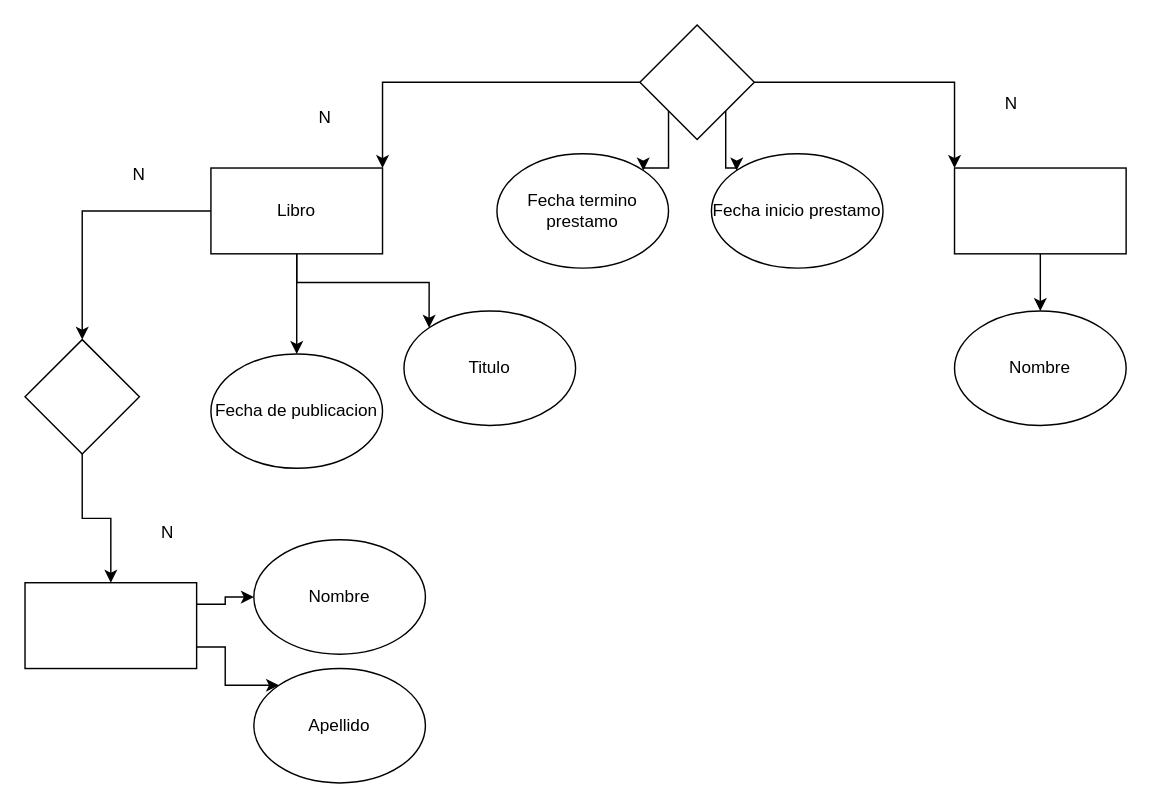
Some shapes in this 1151 by 808 pixel diagram are drawn without their labels. Each missing label, with the box of its shape:
Autor: (24, 581, 197, 669)
Escribe: (24, 338, 139, 454)
Estudiante: (953, 167, 1126, 254)
Prestar: (638, 24, 754, 139)
